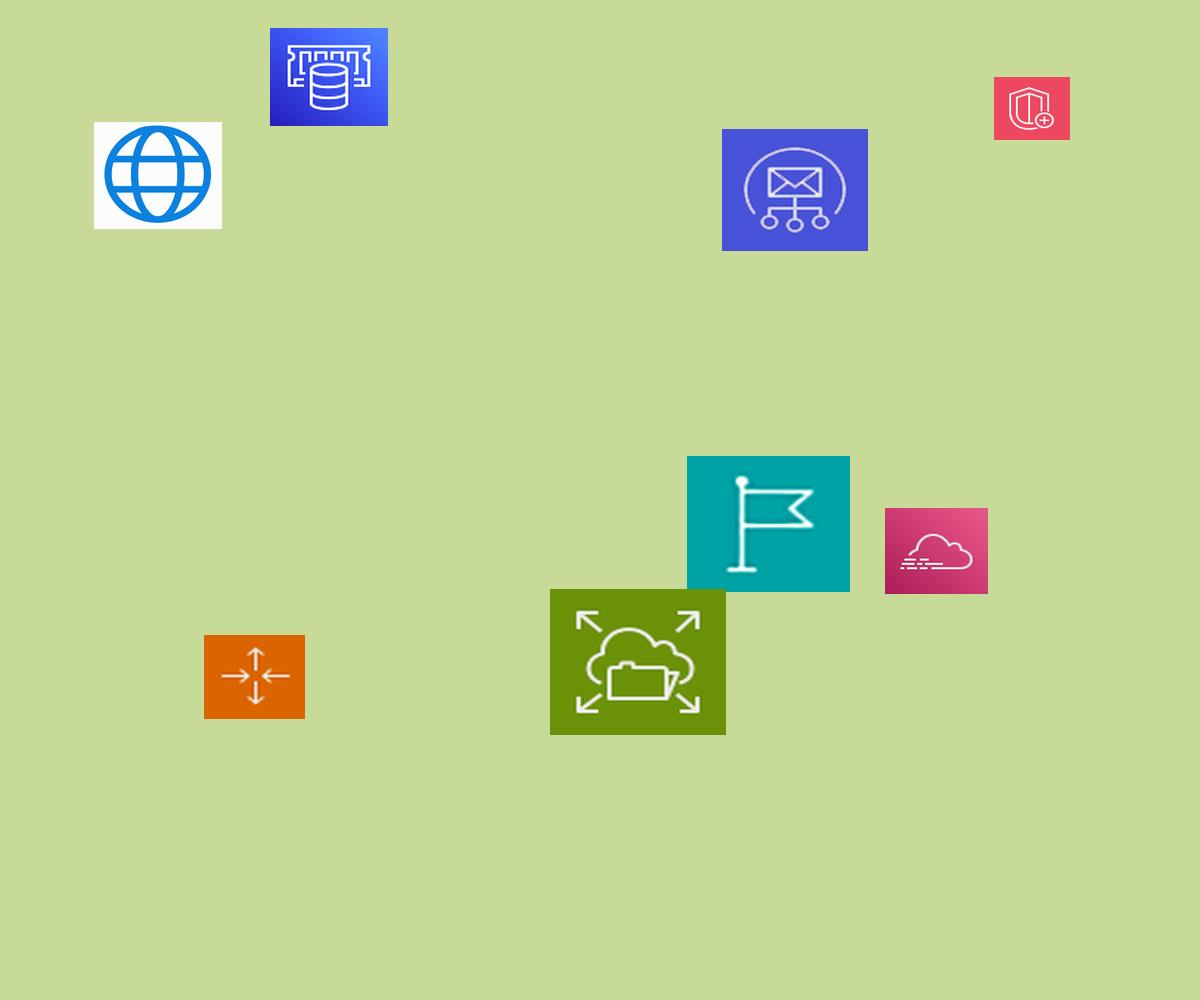AWS-CloudTrail: (885, 508, 988, 594)
AWS-EFS: (550, 589, 726, 735)
AWS-ElastiCache: (270, 28, 388, 126)
AWS-Region: (687, 456, 850, 592)
AWS-Scaling-group: (204, 635, 305, 719)
AWS-Shield: (994, 77, 1070, 140)
AWS-Simple-Email-Service: (722, 129, 868, 251)
Azure_http: (94, 122, 222, 229)
